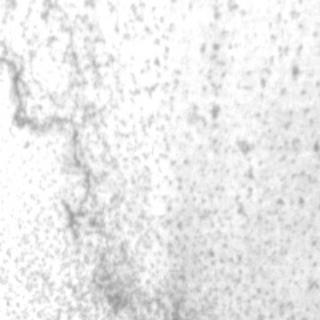pitted_surface: (22, 0, 314, 312)
